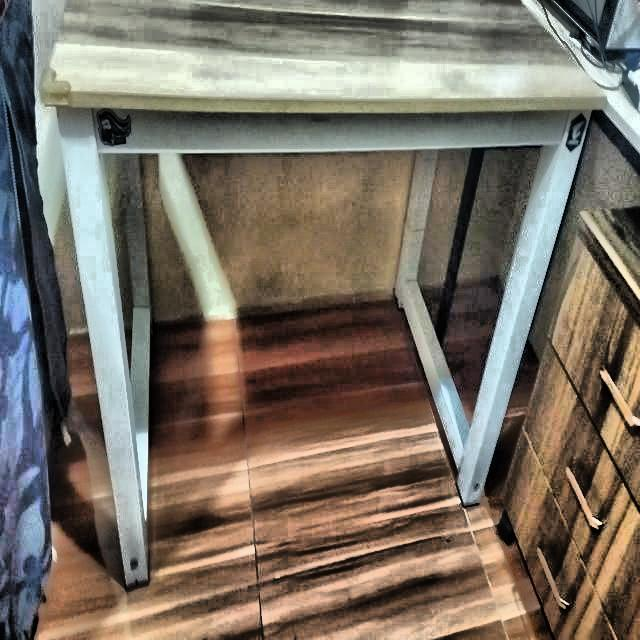mesa: (26, 0, 608, 571)
